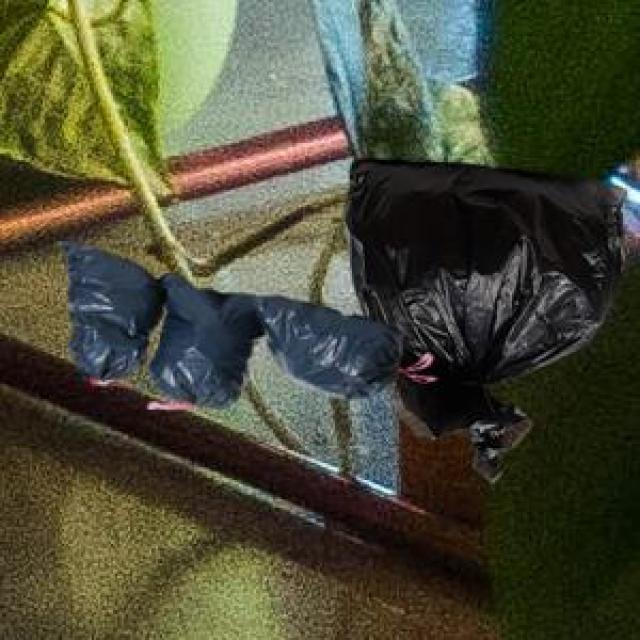waste: (65, 161, 621, 476)
